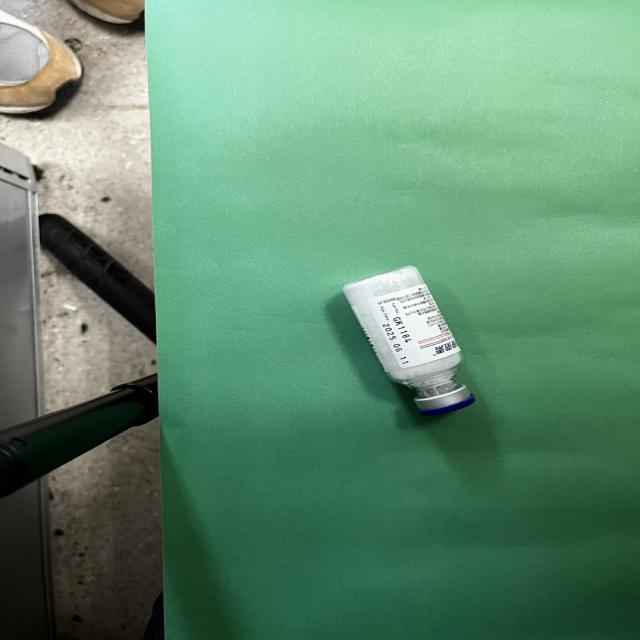Vials: (343, 266, 474, 414)
